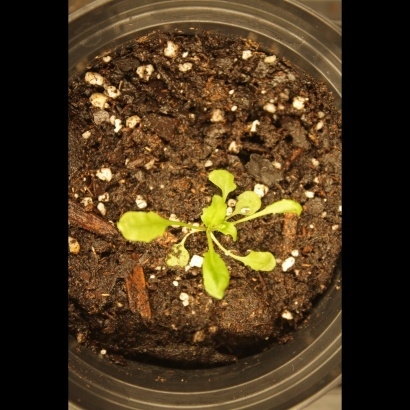leaf: (114, 198, 175, 248), (196, 244, 236, 303), (242, 241, 282, 278), (261, 190, 307, 220), (196, 196, 229, 233), (234, 189, 273, 219), (205, 162, 238, 196), (161, 241, 192, 272), (217, 220, 240, 245)
